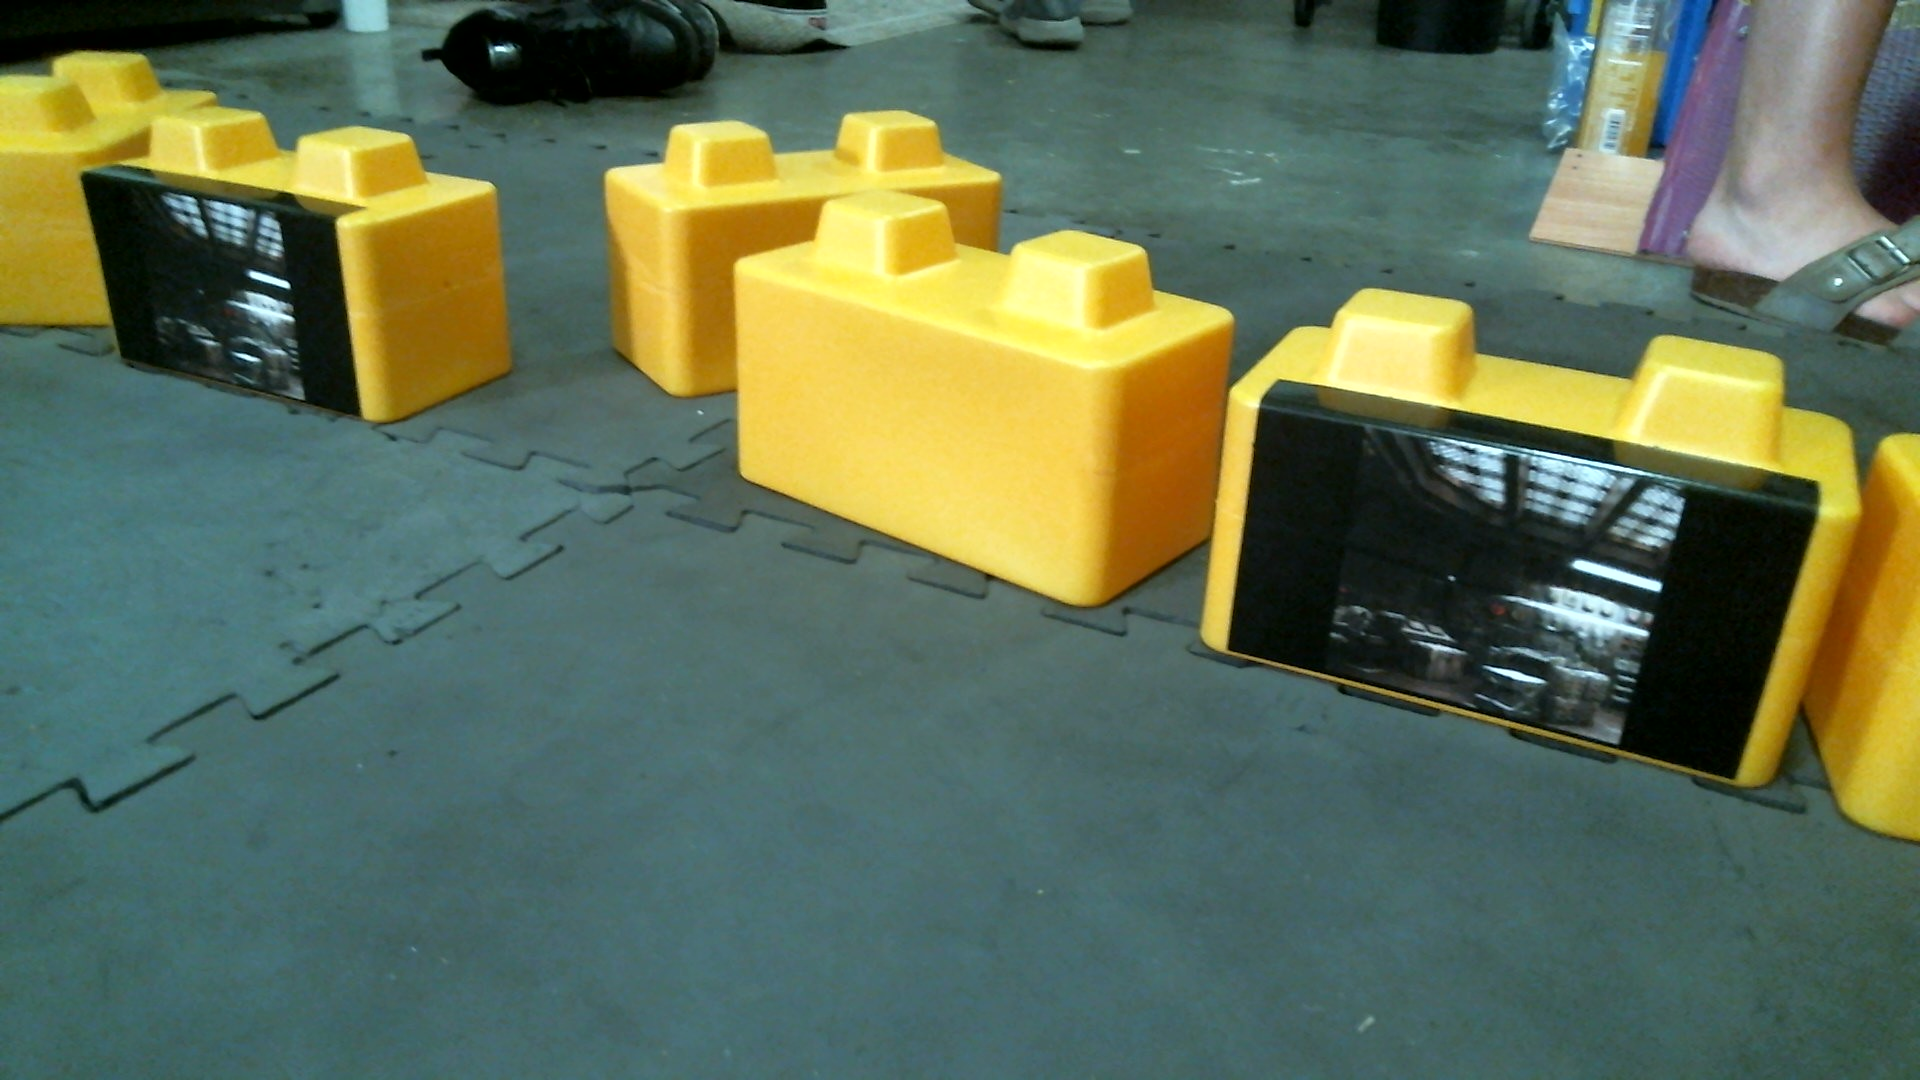skystone: (1196, 285, 1865, 795), (69, 103, 516, 427)
stone: (731, 189, 1218, 615), (597, 108, 1001, 404), (1, 47, 224, 328), (1800, 436, 1920, 843)
